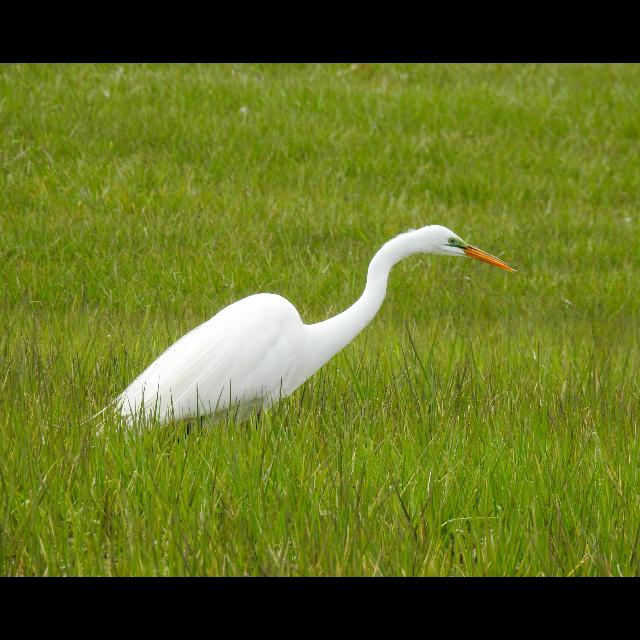egret: (116, 224, 516, 424)
